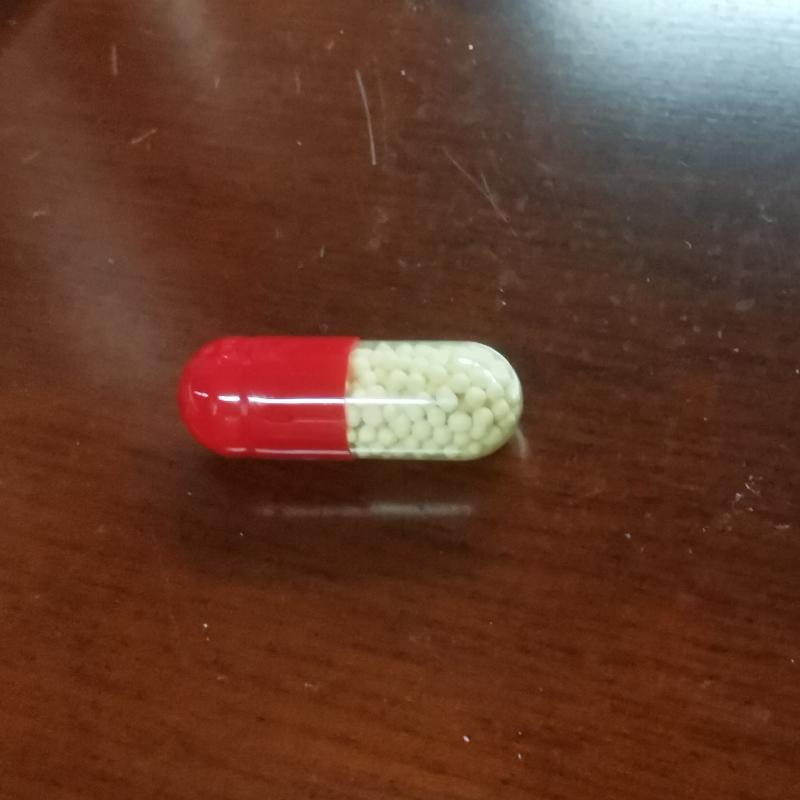pills: (165, 314, 532, 488)
